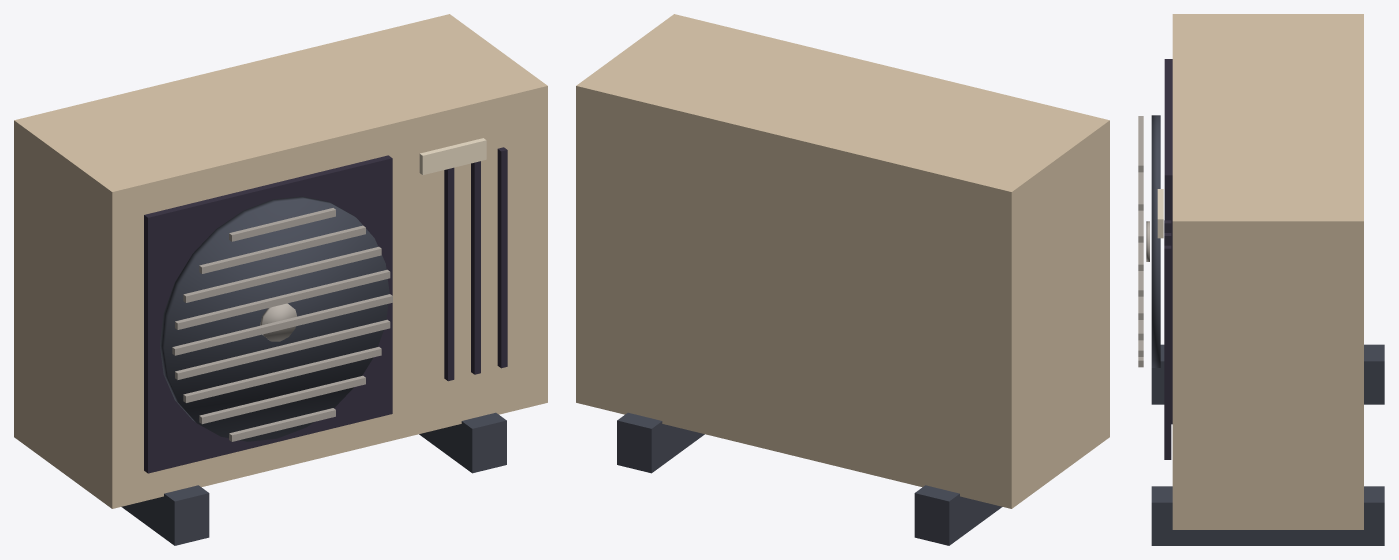
File: SM_Cafe_AC.fbx
The picture shows the model from 3 angles, left to right: view 1: azimuth 30°, elevation 25°; view 2: azimuth 150°, elevation 25°; view 3: azimuth 270°, elevation 25°; orthographic projection. The views are drawn at different scales.
Parts seen in each view (by area): view 1: SM_Cafe_AC; view 2: SM_Cafe_AC; view 3: SM_Cafe_AC.
Part boxes in pixels (left/top/right/bottom): SM_Cafe_AC: left=14, top=14, right=547, bottom=545; SM_Cafe_AC: left=576, top=14, right=1109, bottom=545; SM_Cafe_AC: left=1138, top=14, right=1384, bottom=545.
Bounding box in the file's own units: 0.82 × 0.4125 × 0.645.
